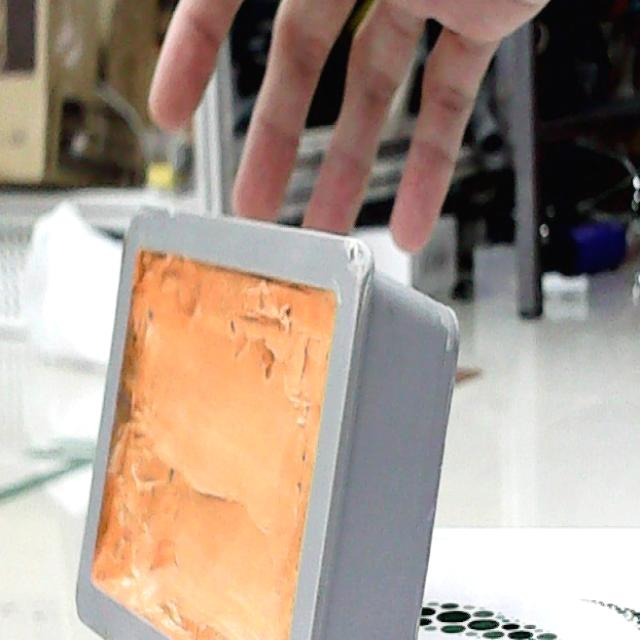block: (77, 203, 456, 640)
